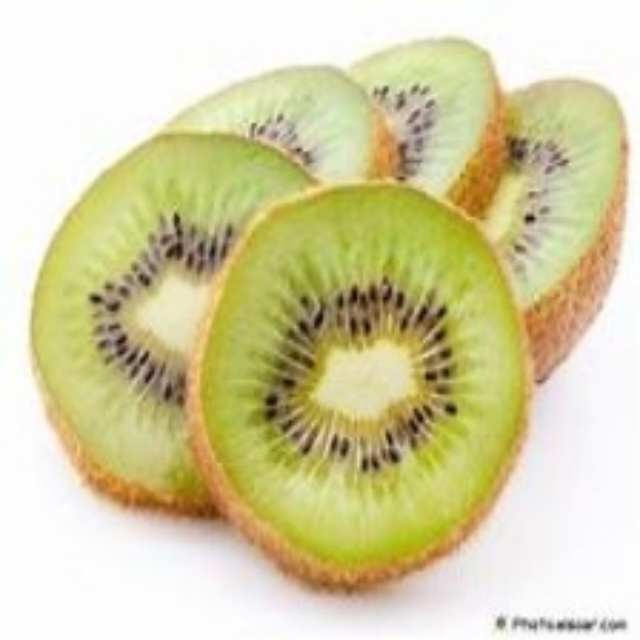kiwi: (183, 182, 543, 588), (28, 129, 335, 509), (376, 42, 634, 375)
